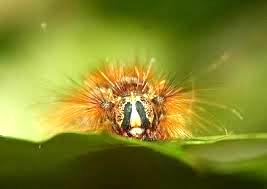Caterpillar: (49, 54, 215, 150)
